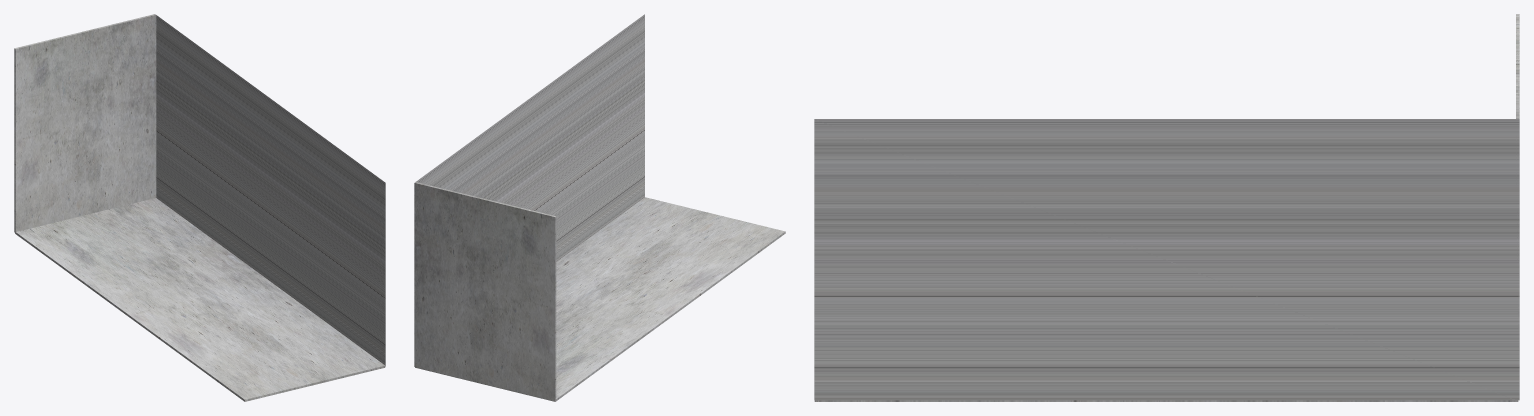
Rendered from Weapons wall.gltf.
The picture shows the model from 3 angles, left to right: view 1: azimuth 30°, elevation 25°; view 2: azimuth 150°, elevation 25°; view 3: azimuth 270°, elevation 25°; orthographic projection. The views are drawn at different scales.
Visible parts, largest first — view 1: Plane.002; view 2: Plane.002; view 3: Plane.002.
Boxes of the visible parts, x1=… form: Plane.002: x1=14, y1=14, x2=385, y2=401; Plane.002: x1=414, y1=14, x2=785, y2=401; Plane.002: x1=814, y1=14, x2=1519, y2=401.
Size of the model in its own units: 5.64 by 7.08 by 16.
2 materials, 2 textured.
